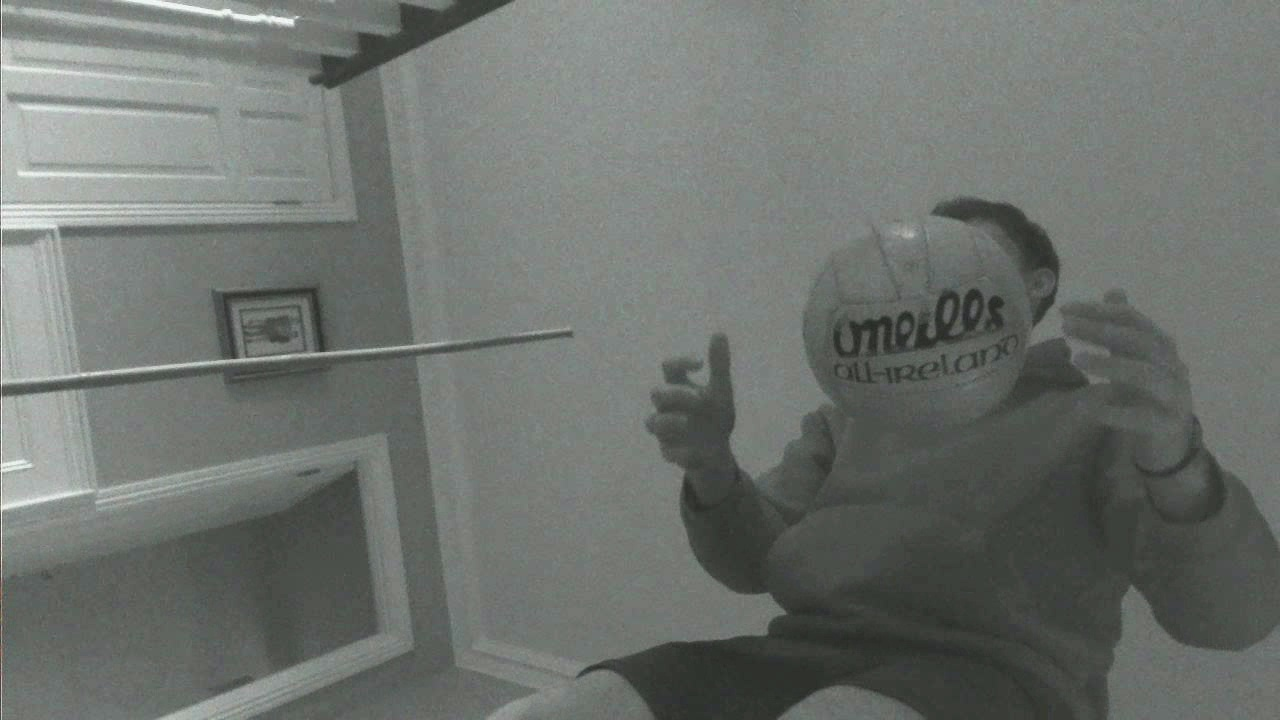Football-Spotter: (803, 217, 1031, 429)
